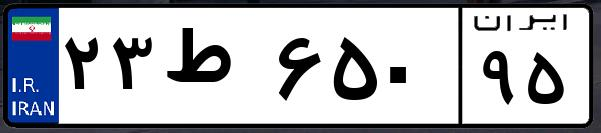0: (385, 28, 445, 110)
2: (57, 26, 110, 100)
3: (110, 28, 158, 98)
5: (330, 28, 385, 110), (525, 38, 570, 115)
6: (270, 28, 330, 110)
9: (475, 38, 525, 113)
ط: (158, 20, 270, 120)
